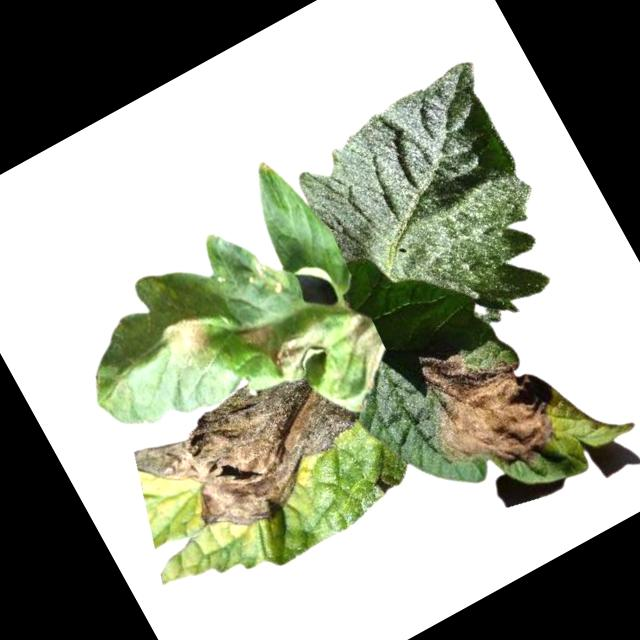Late_blight: (124, 344, 383, 566), (393, 307, 583, 506), (329, 302, 402, 393), (260, 315, 337, 384), (152, 307, 221, 378), (244, 249, 297, 304), (234, 312, 280, 359)
